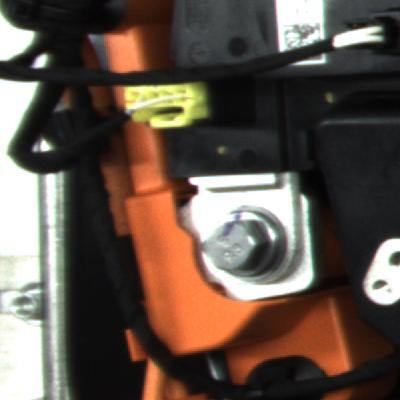nut_b: (205, 203, 302, 285)
